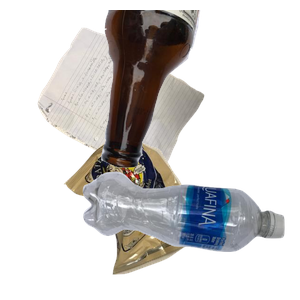glass: (99, 10, 300, 170)
paper: (35, 25, 232, 204)
plastic: (80, 169, 300, 300)
trash: (61, 127, 260, 300)
